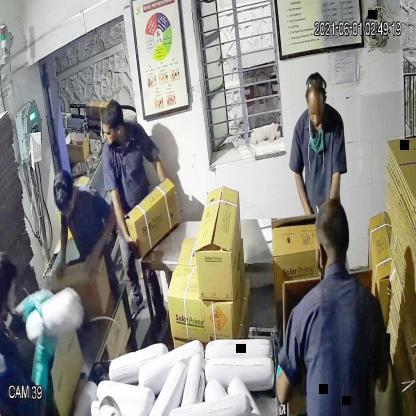no_goggles: (303, 101, 329, 121)
